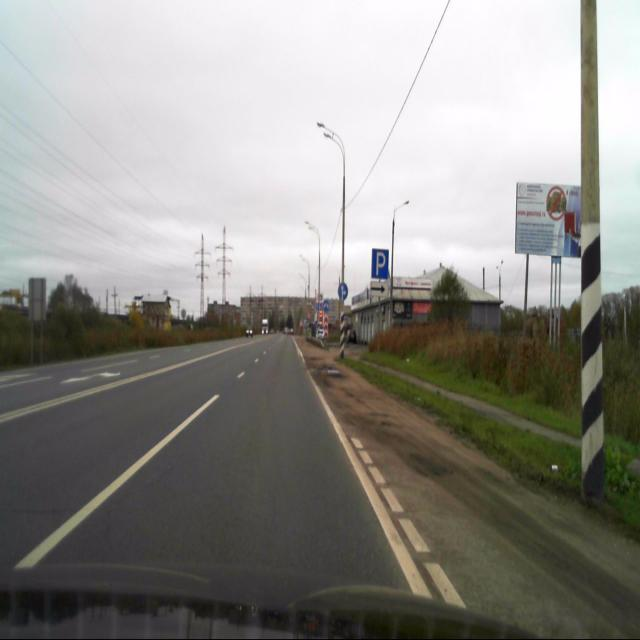road sign: (370, 249, 388, 279), (370, 281, 387, 296)
